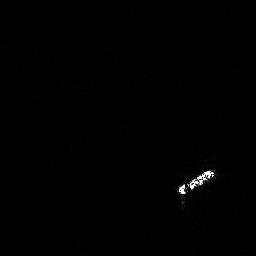ship: (178, 169, 214, 195)
